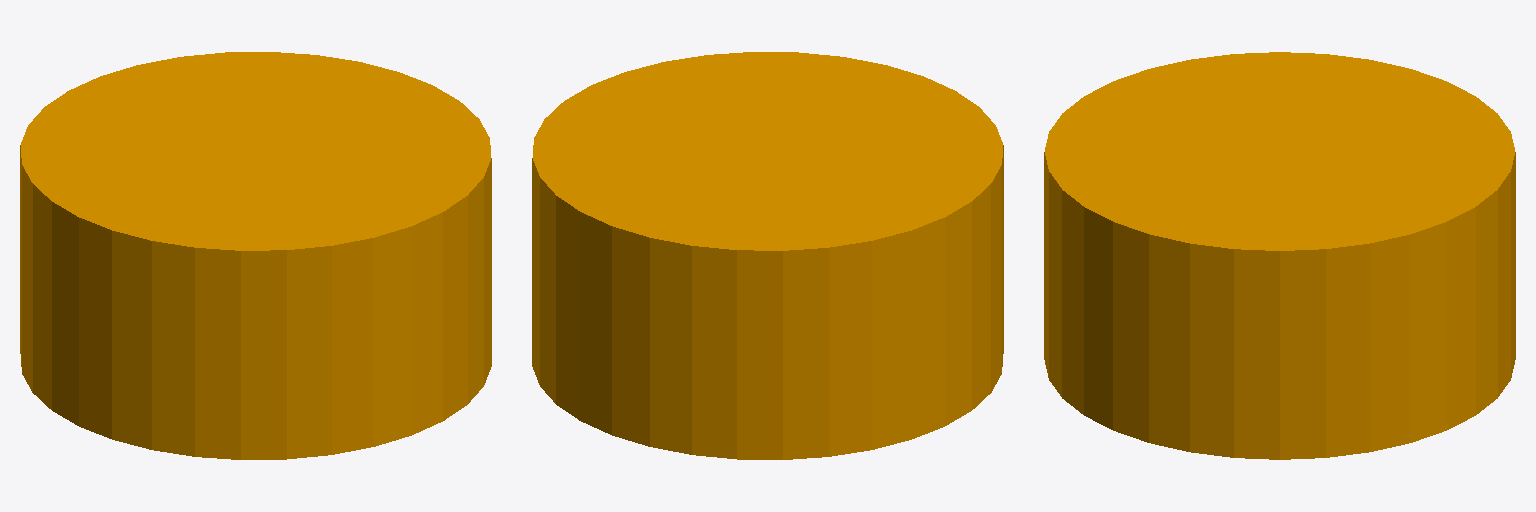
robot.urdf — object:
<?xml version="1.0"?>
<!-- Auto-generated by tools/gen_primitive_objects.py. kind=cyl dims=(0.046, 0.045) -->
<robot name="object">
  <link name="object">
    <visual>
      <origin xyz="0 0 0"/>
      <geometry>
        <cylinder radius="0.046000" length="0.045000"/>
      </geometry>
    </visual>
    <collision>
      <origin xyz="0 0 0"/>
      <geometry>
        <cylinder radius="0.046000" length="0.045000"/>
      </geometry>
    </collision>
    <inertial>
      <mass value="0.059828"/>
      <inertia ixx="0.00004175" ixy="0.0" ixz="0.0" iyy="0.00004175" iyz="0.0" izz="0.00006330"/>
    </inertial>
  </link>
</robot>

--- Render facts (derived) ---
Views: 3 orthographic renders of the robot side by side, from view 1: azimuth 30°, elevation 25°; view 2: azimuth 150°, elevation 25°; view 3: azimuth 270°, elevation 25°.
Model object with 1 links and 0 joints (none), rooted at object, posed all joints at 0.
Links seen in each view (by area): view 1: object; view 2: object; view 3: object.
Boxes of the visible links, box(x1,y1,x2,y2) form: object: box(20, 52, 491, 459); object: box(532, 52, 1003, 459); object: box(1044, 52, 1515, 459).
Bounding box of the posed robot: 0.092 × 0.092 × 0.045 m (x, y, z).
Geometry: primitives only (box / cylinder / sphere), no mesh files.
